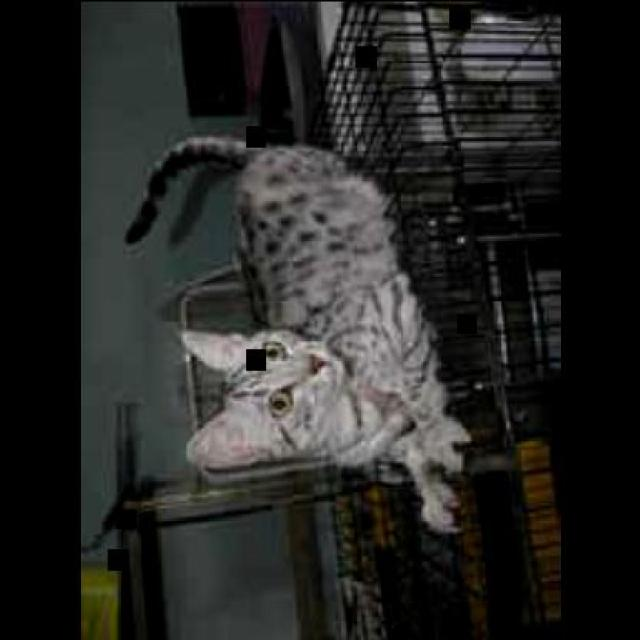unauthorized: (123, 132, 472, 536)
